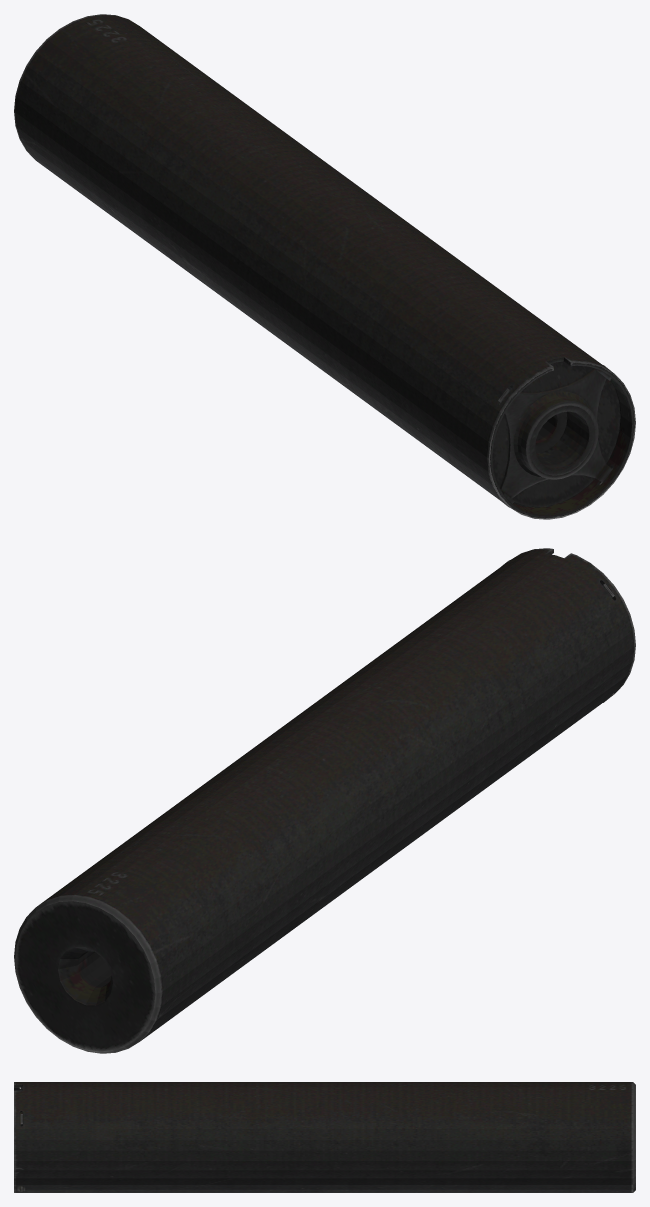
3 views of the same model, one above another, from view 1: azimuth 30°, elevation 25°; view 2: azimuth 150°, elevation 25°; view 3: azimuth 270°, elevation 25° (orthographic). The views are drawn at different scales.
Parts seen in each view (by area): view 1: TW_62e2a7138e1ac9380579c122_PZ_Import; view 2: TW_62e2a7138e1ac9380579c122_PZ_Import; view 3: TW_62e2a7138e1ac9380579c122_PZ_Import.
Part boxes in pixels (bbox=[...]): TW_62e2a7138e1ac9380579c122_PZ_Import: bbox=[14, 14, 635, 519]; TW_62e2a7138e1ac9380579c122_PZ_Import: bbox=[14, 548, 635, 1053]; TW_62e2a7138e1ac9380579c122_PZ_Import: bbox=[14, 1082, 635, 1192].
Bounding box in the file's own units: 0.0223 × 0.1252 × 0.0223.
1 material, 1 textured.
